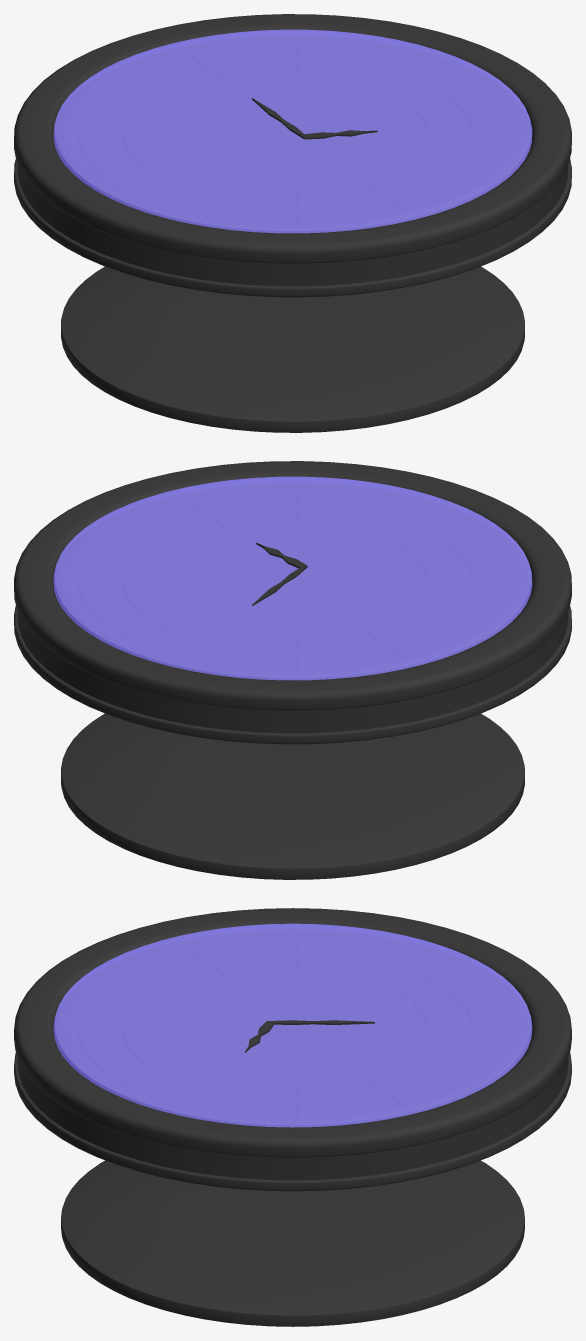
Rendered from Clock.FBX.
3 views of the same model, one above another, from view 1: azimuth 30°, elevation 25°; view 2: azimuth 150°, elevation 25°; view 3: azimuth 270°, elevation 25° (orthographic).
Visible parts, largest first — view 1: Clock; view 2: Clock; view 3: Clock.
Part boxes in pixels (x1=…): Clock: x1=14, y1=14, x2=571, y2=432; Clock: x1=14, y1=461, x2=571, y2=879; Clock: x1=14, y1=908, x2=571, y2=1326.
Bounding box in the file's own units: 150 × 150 × 61.57.
